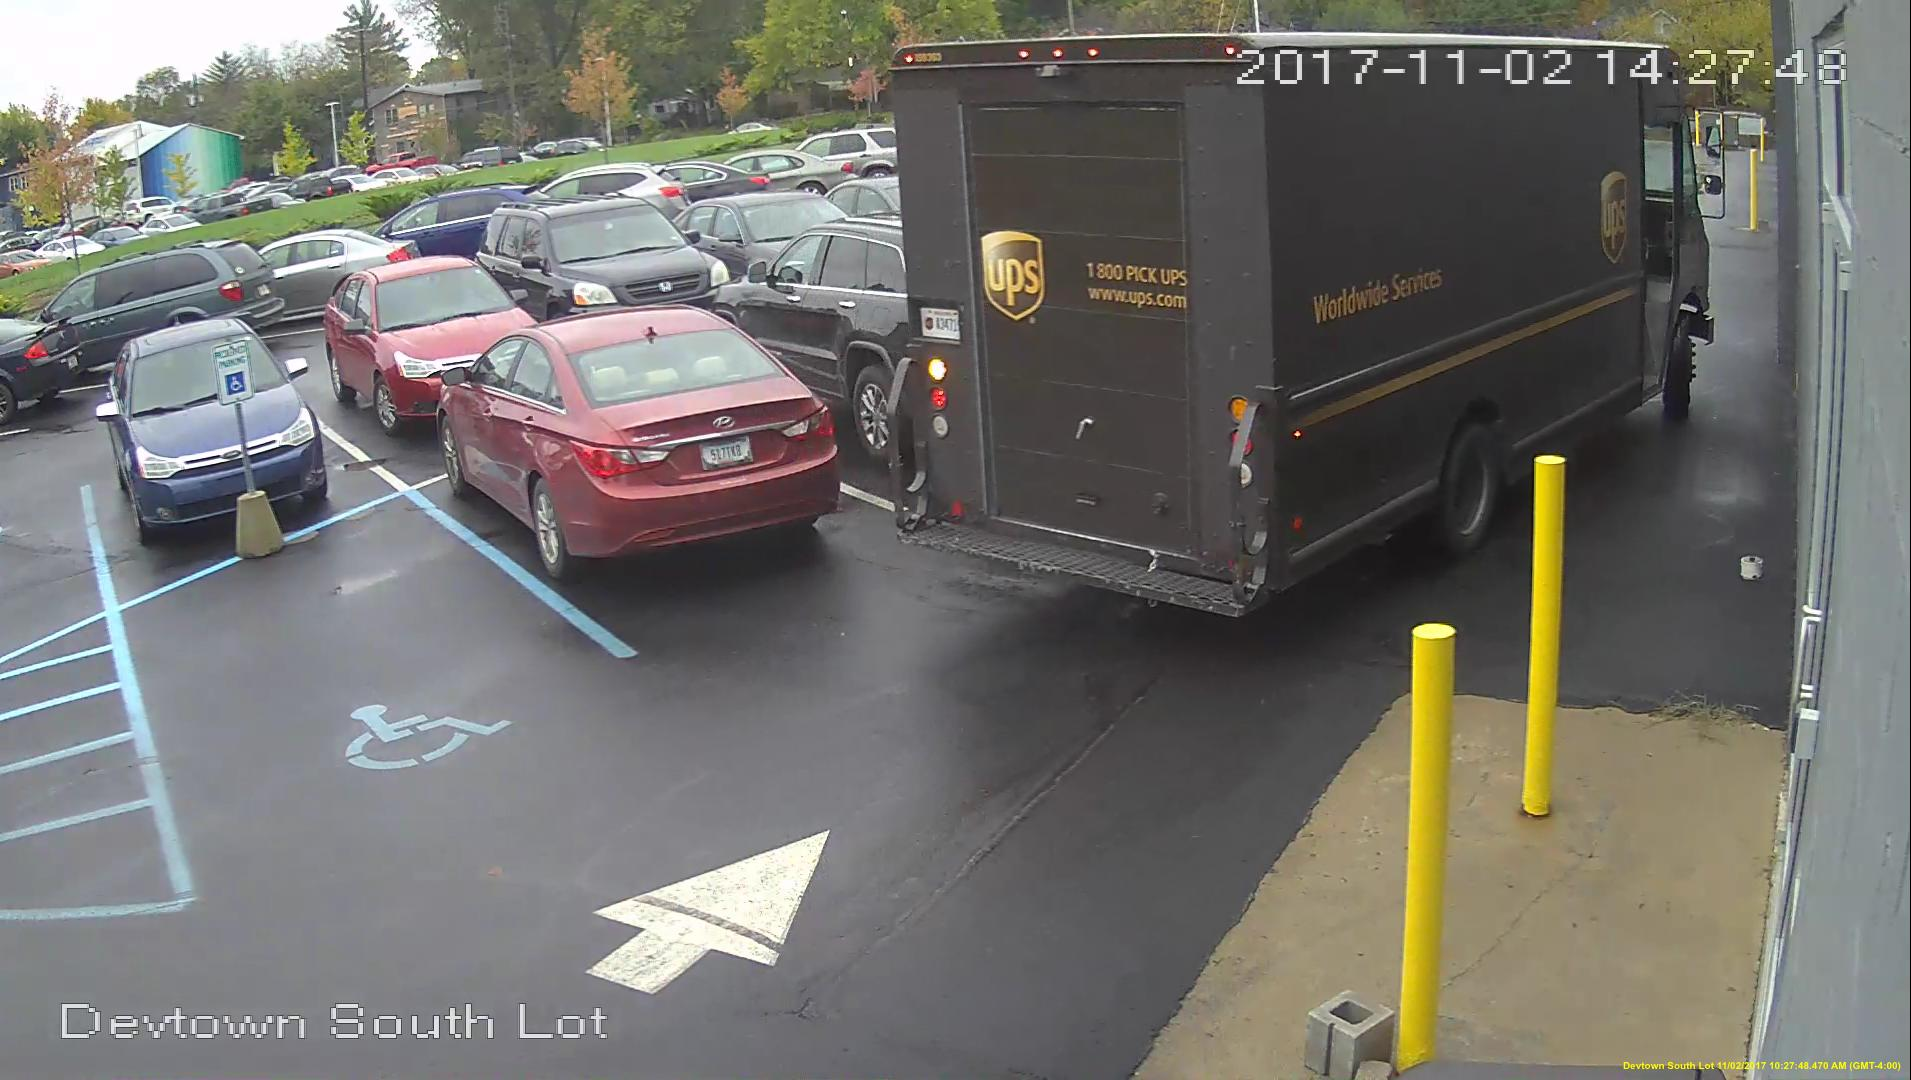ups_truck: (895, 35, 1709, 623)
